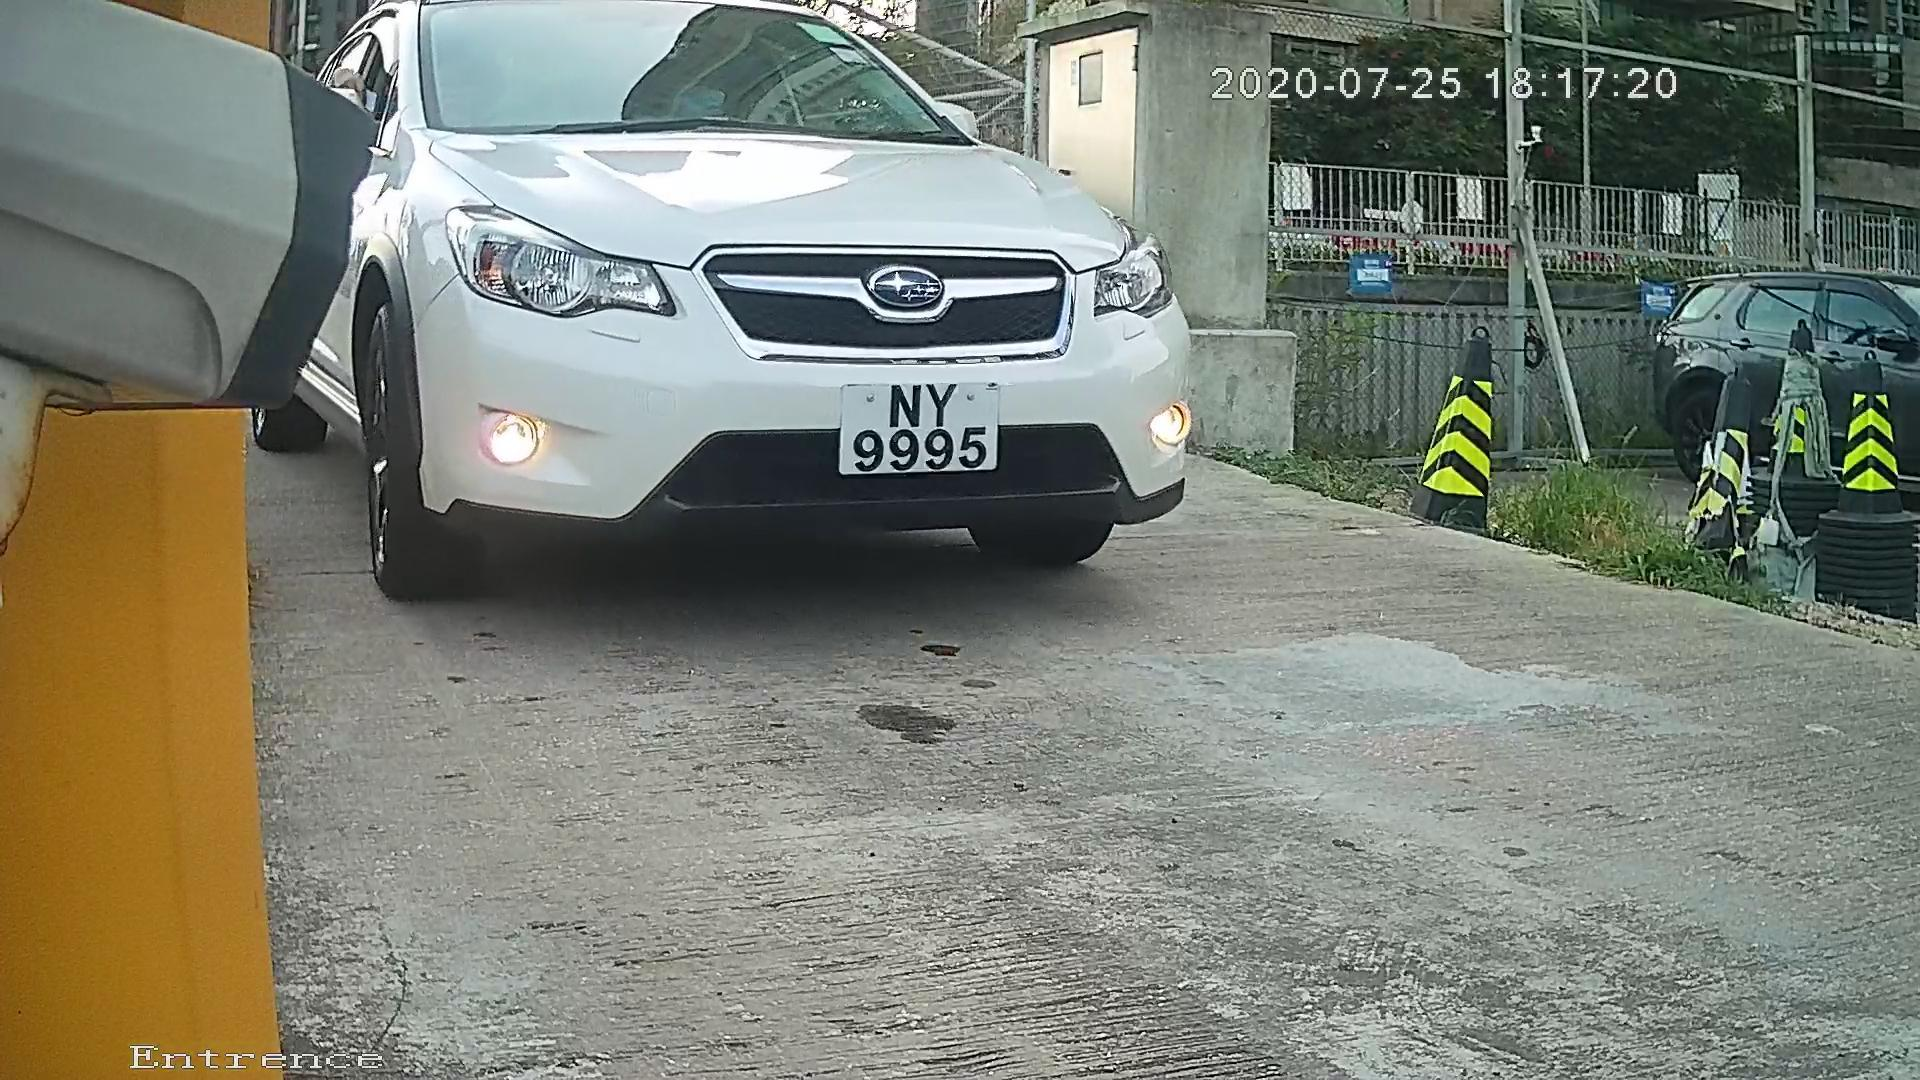privatecar: (249, 15, 1321, 632)
